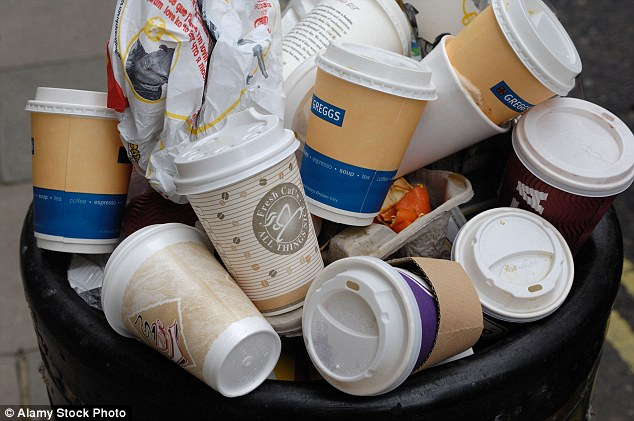cup: (165, 102, 344, 338), (90, 209, 278, 404), (292, 32, 443, 237), (295, 251, 444, 402), (447, 197, 600, 339), (21, 71, 134, 259), (447, 1, 597, 105), (511, 97, 633, 216)
